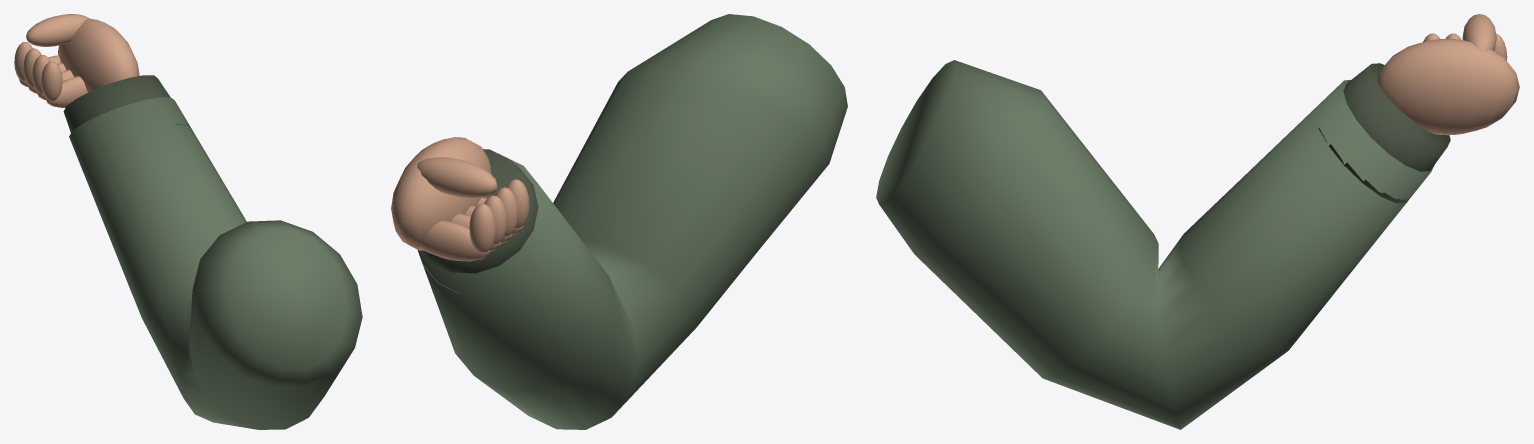
Rendered from holding_arm.glb.
3 views of the same model, side by side, from view 1: azimuth 30°, elevation 25°; view 2: azimuth 150°, elevation 25°; view 3: azimuth 270°, elevation 25° (orthographic). The views are drawn at different scales.
Parts seen in each view (by area): view 1: Bent jacket sleeve, Right palm, Knitted cuff, Thumb, Fingertip, Curled finger, Fingertip.002, Fingertip.001, Fingertip.003; view 2: Bent jacket sleeve, Right palm, Knitted cuff, Thumb, Curled finger.003, Fingertip.003, Fingertip, Fingertip.001, Fingertip.002; view 3: Bent jacket sleeve, Right palm, Knitted cuff, Thumb.
Boxes of the visible parts, bbox=[...] form: Bent jacket sleeve: bbox=[69, 97, 362, 429]; Right palm: bbox=[58, 18, 139, 92]; Knitted cuff: bbox=[63, 75, 191, 132]; Thumb: bbox=[26, 14, 89, 46]; Fingertip: bbox=[41, 61, 62, 100]; Curled finger: bbox=[46, 76, 87, 107]; Fingertip.002: bbox=[23, 48, 41, 87]; Fingertip.001: bbox=[32, 55, 50, 94]; Fingertip.003: bbox=[14, 42, 32, 81]; Bent jacket sleeve: bbox=[417, 14, 847, 429]; Right palm: bbox=[391, 137, 491, 250]; Knitted cuff: bbox=[422, 149, 538, 293]; Thumb: bbox=[417, 157, 497, 198]; Curled finger.003: bbox=[419, 220, 489, 261]; Fingertip.003: bbox=[469, 203, 495, 252]; Fingertip: bbox=[506, 179, 529, 228]; Fingertip.001: bbox=[495, 187, 518, 236]; Fingertip.002: bbox=[484, 195, 507, 244]; Bent jacket sleeve: bbox=[876, 60, 1434, 429]; Right palm: bbox=[1377, 38, 1519, 135]; Knitted cuff: bbox=[1318, 63, 1450, 203]; Thumb: bbox=[1462, 14, 1496, 50].
Bounding box in the file's own units: 0.217 × 0.3582 × 0.5605.
